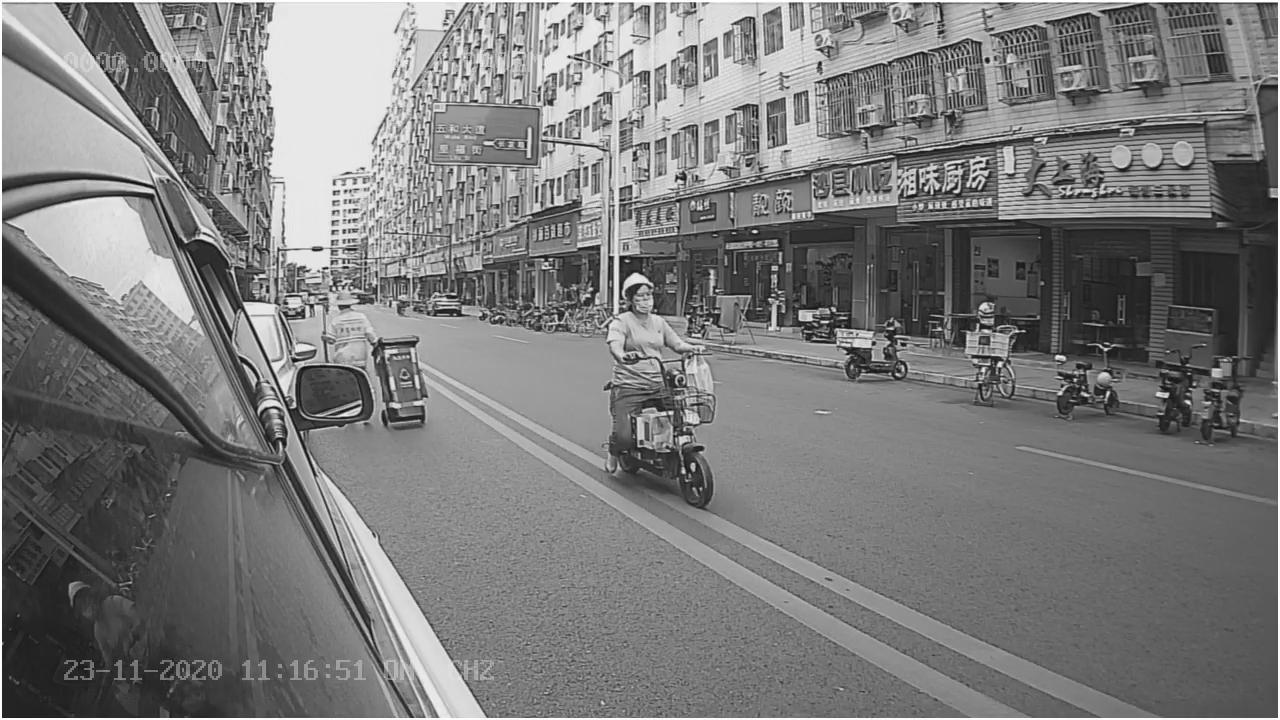person: (605, 270, 696, 355)
